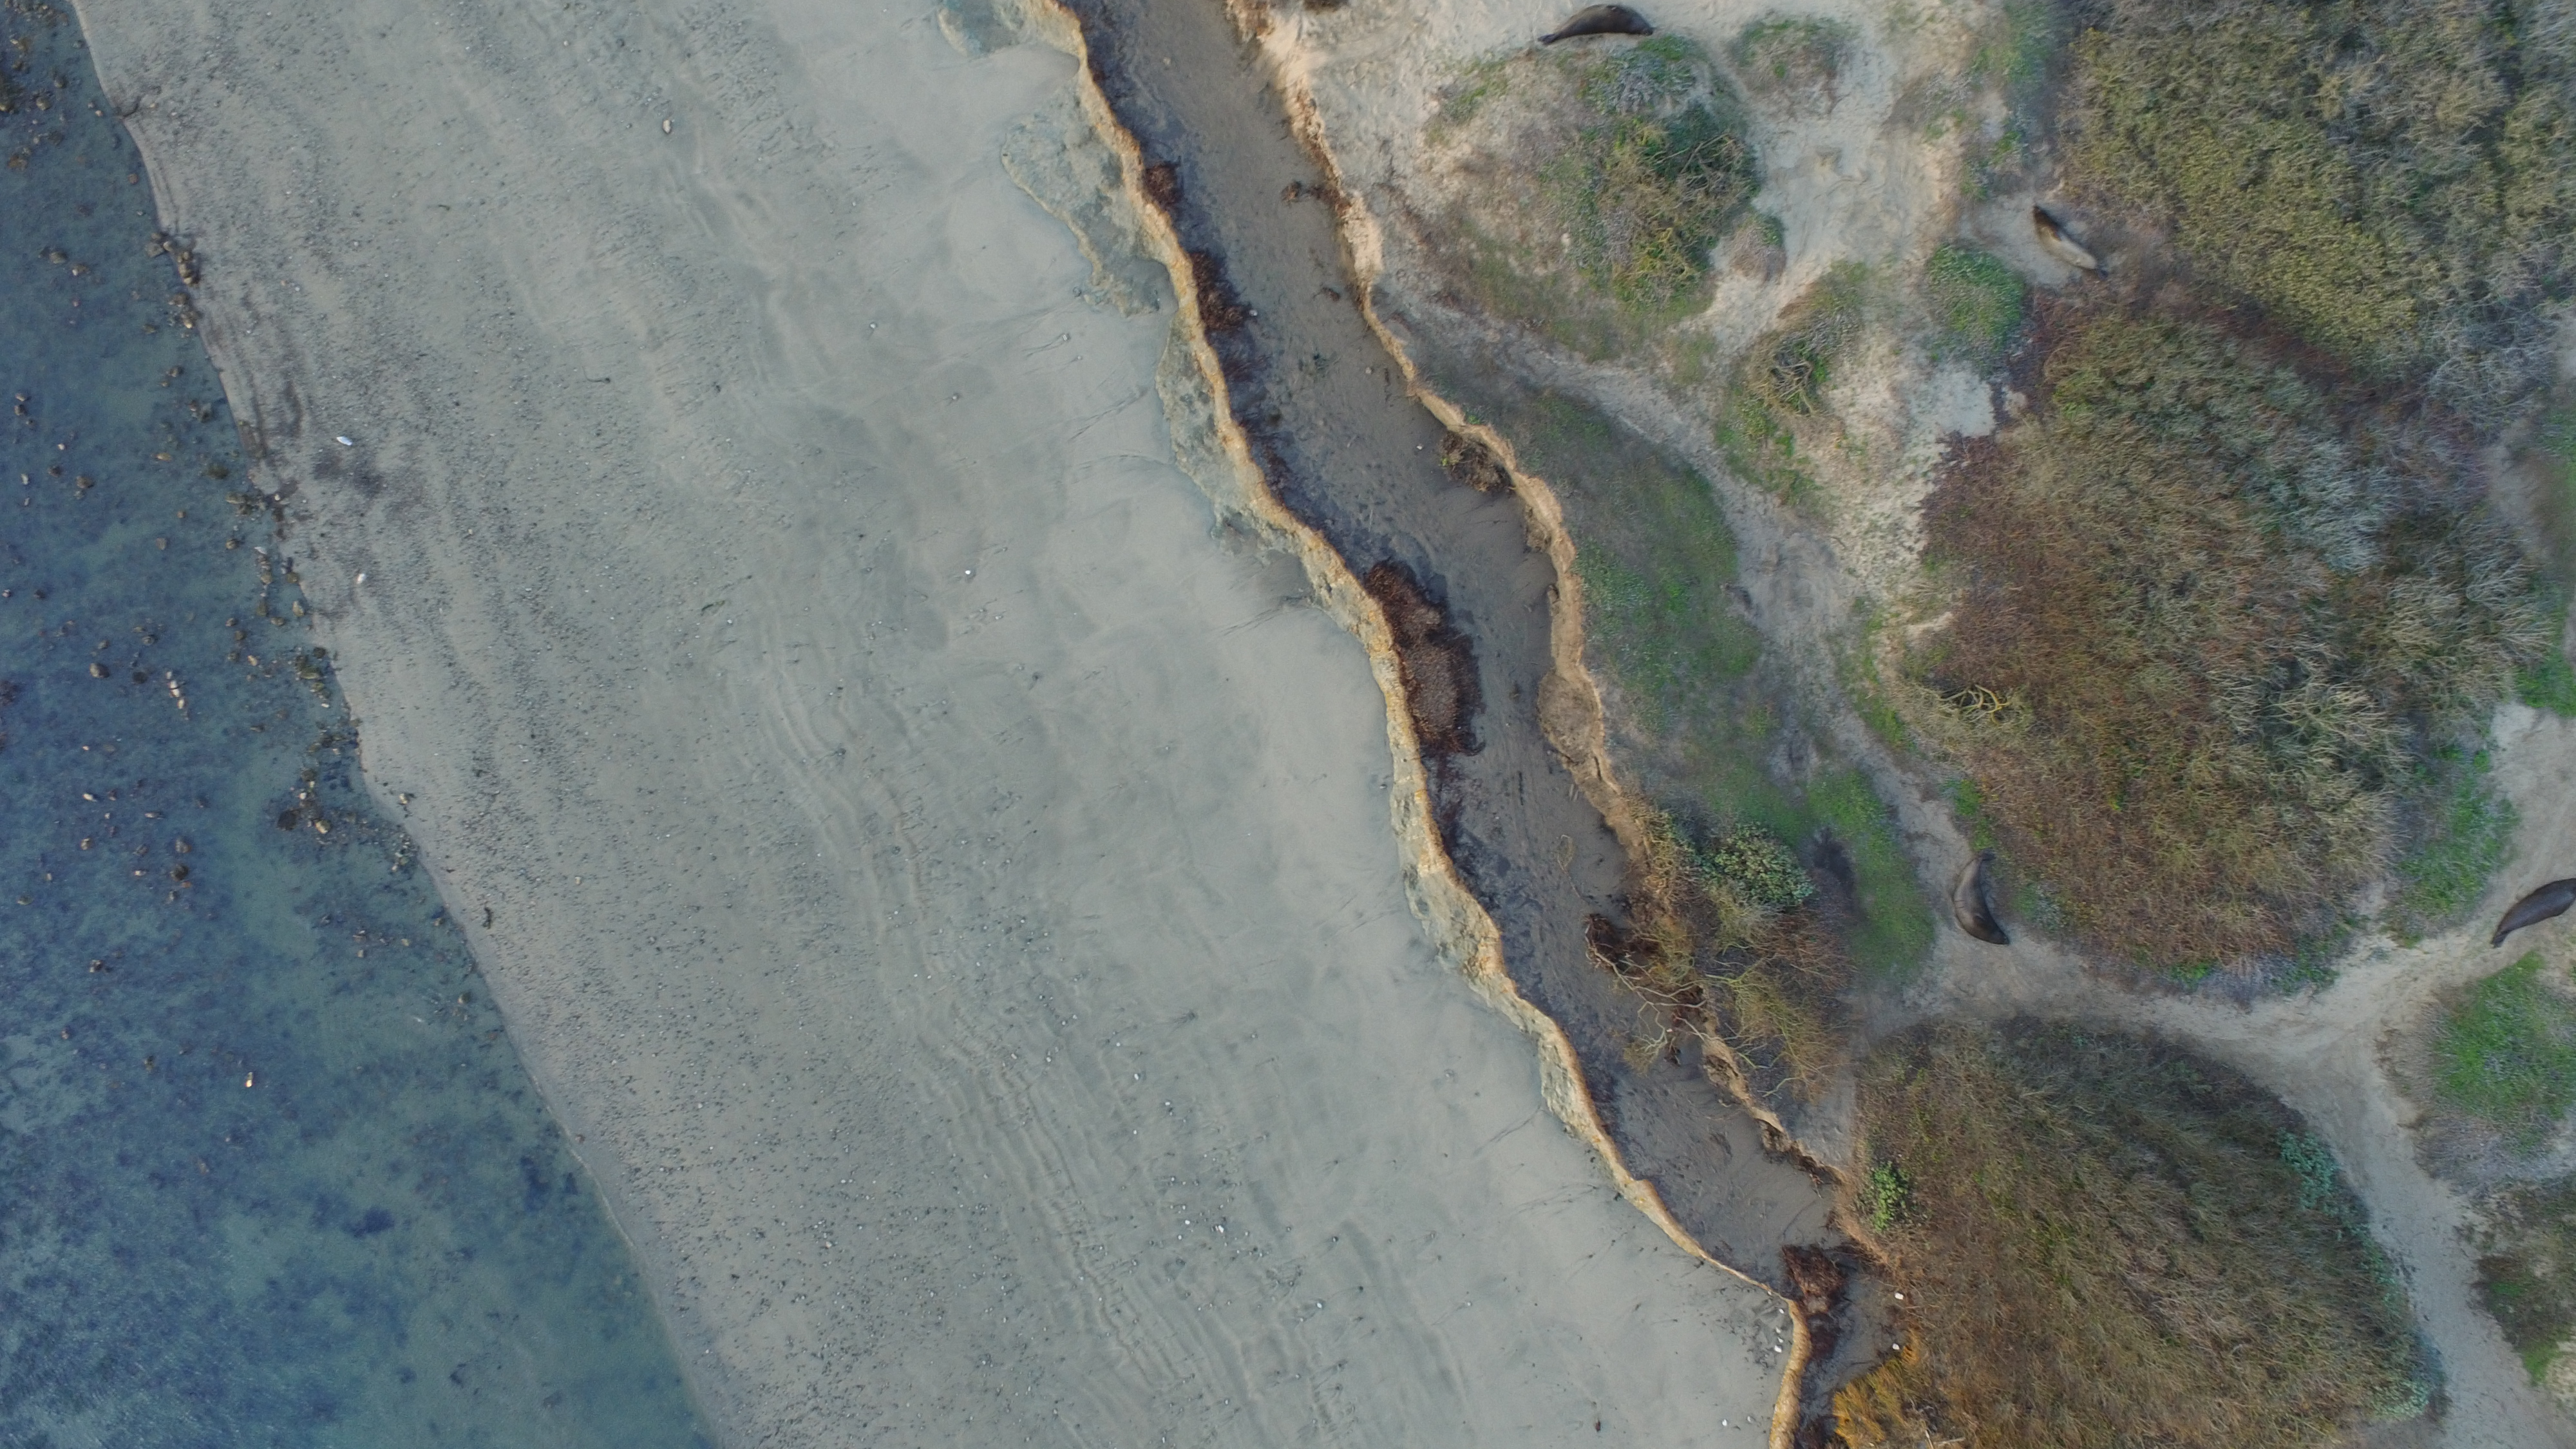Adult Female or Young Male: (1930, 835, 2028, 959), (1514, 0, 1675, 55), (2013, 209, 2121, 288), (2480, 870, 2576, 947)
